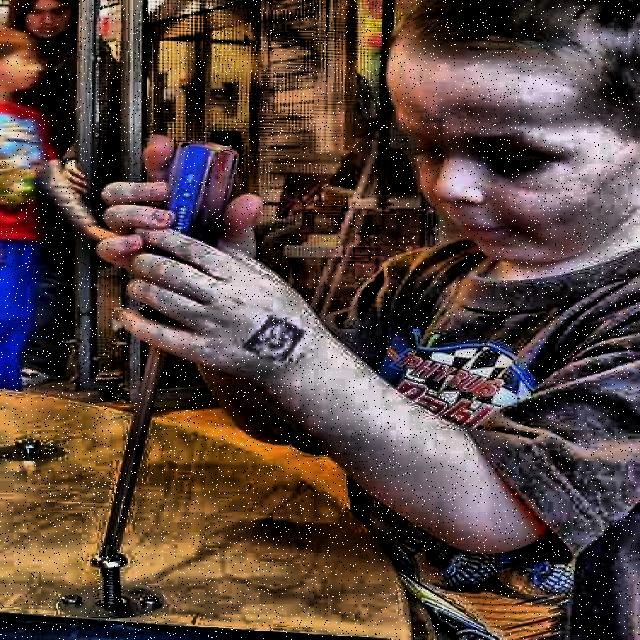screwdriver: (96, 138, 240, 566)
